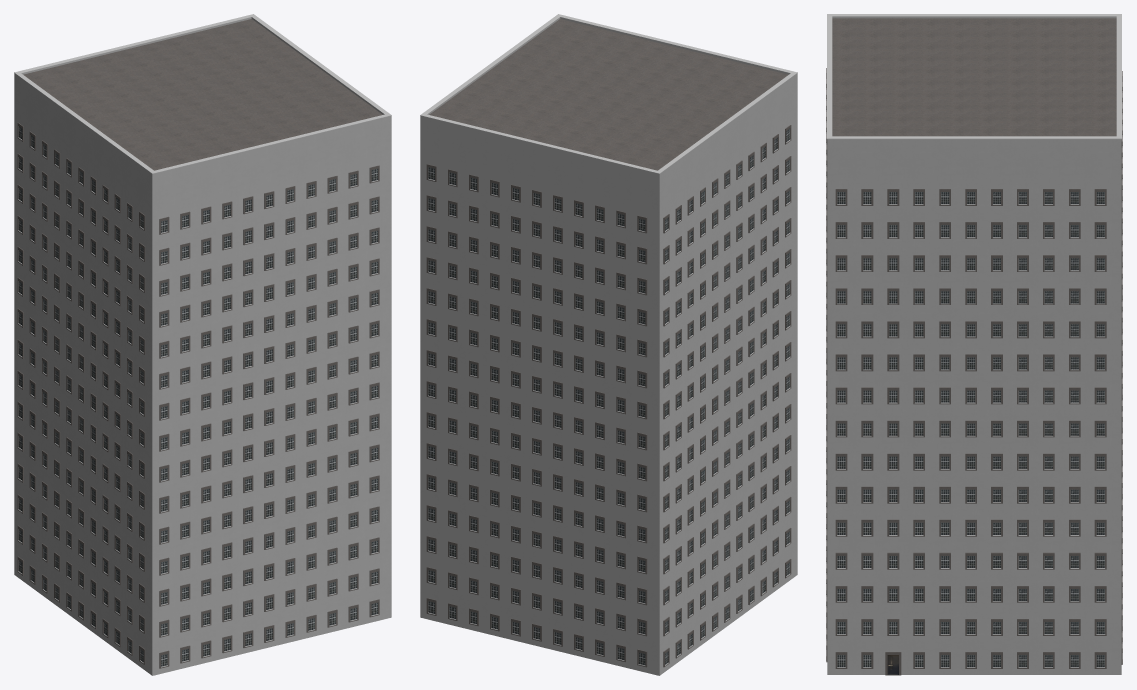
File: Skyscraper_FBX.fbx
3 renders of one model, left to right at view 1: azimuth 30°, elevation 25°; view 2: azimuth 150°, elevation 25°; view 3: azimuth 270°, elevation 25°, orthographic. The views are drawn at different scales.
Parts seen in each view (by area): view 1: Plane, Cube.001, Cube.002; view 2: Plane, Cube.003, Cube.002; view 3: Plane, Cube, Cube.003, Cube.001.
Part boxes in pixels (box(x1,y1,x2,y2)): Plane: box(14, 14, 391, 675); Cube.001: box(159, 165, 379, 668); Cube.002: box(17, 122, 145, 664); Plane: box(420, 14, 797, 675); Cube.003: box(426, 164, 647, 667); Cube.002: box(663, 125, 791, 667); Plane: box(827, 14, 1121, 674); Cube: box(835, 189, 1106, 668); Cube.003: box(1121, 71, 1122, 664); Cube.001: box(826, 68, 827, 662).
Bounding box in the file's own units: 3038 × 6025 × 3022.
